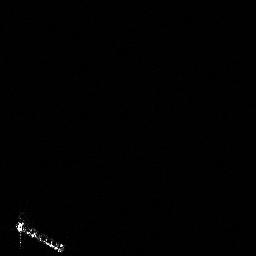ship: (11, 215, 67, 255)
